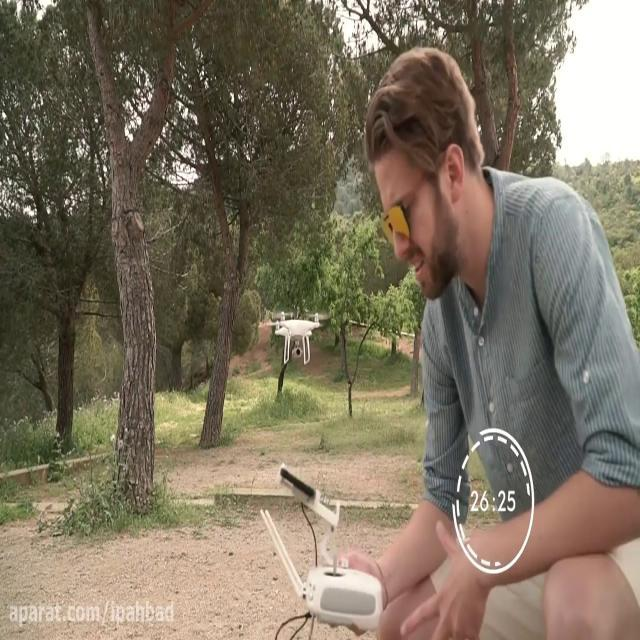drone: (264, 304, 332, 364)
